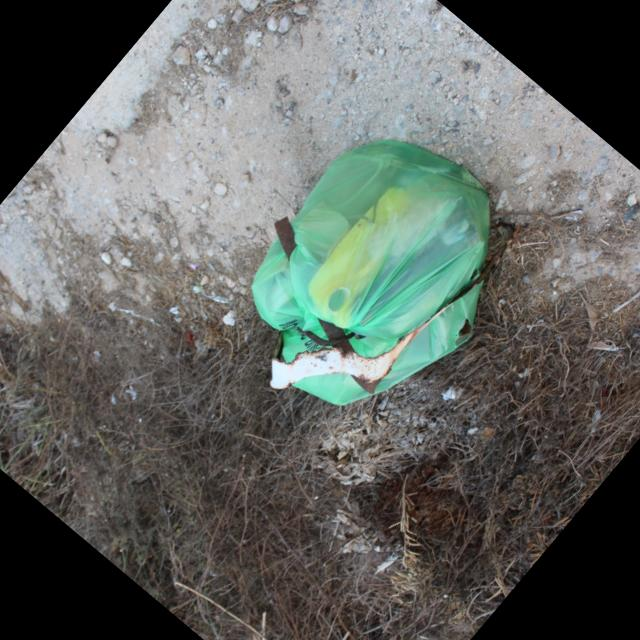Plastic bag - wrapper: (249, 131, 496, 406)
